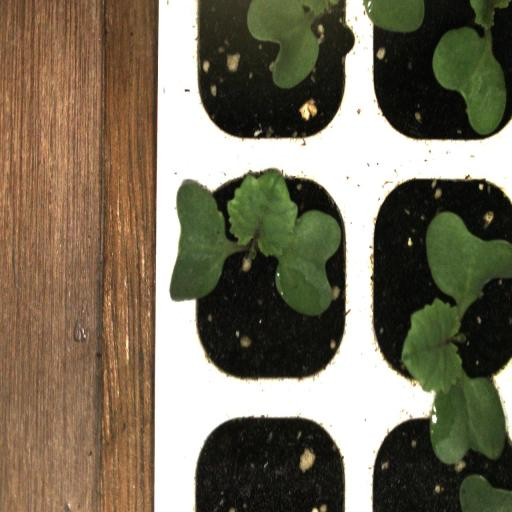Folha: (432, 0, 512, 135), (245, 0, 338, 90), (368, 0, 425, 34)
Germinacao: (176, 157, 362, 391), (363, 158, 512, 396)
